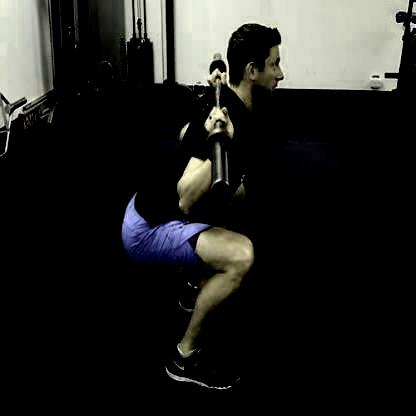Barbell: (206, 179, 230, 206)
